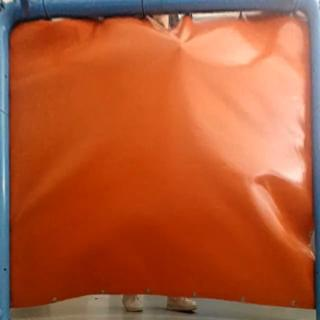Hit-hRxx: (170, 40, 192, 58)
